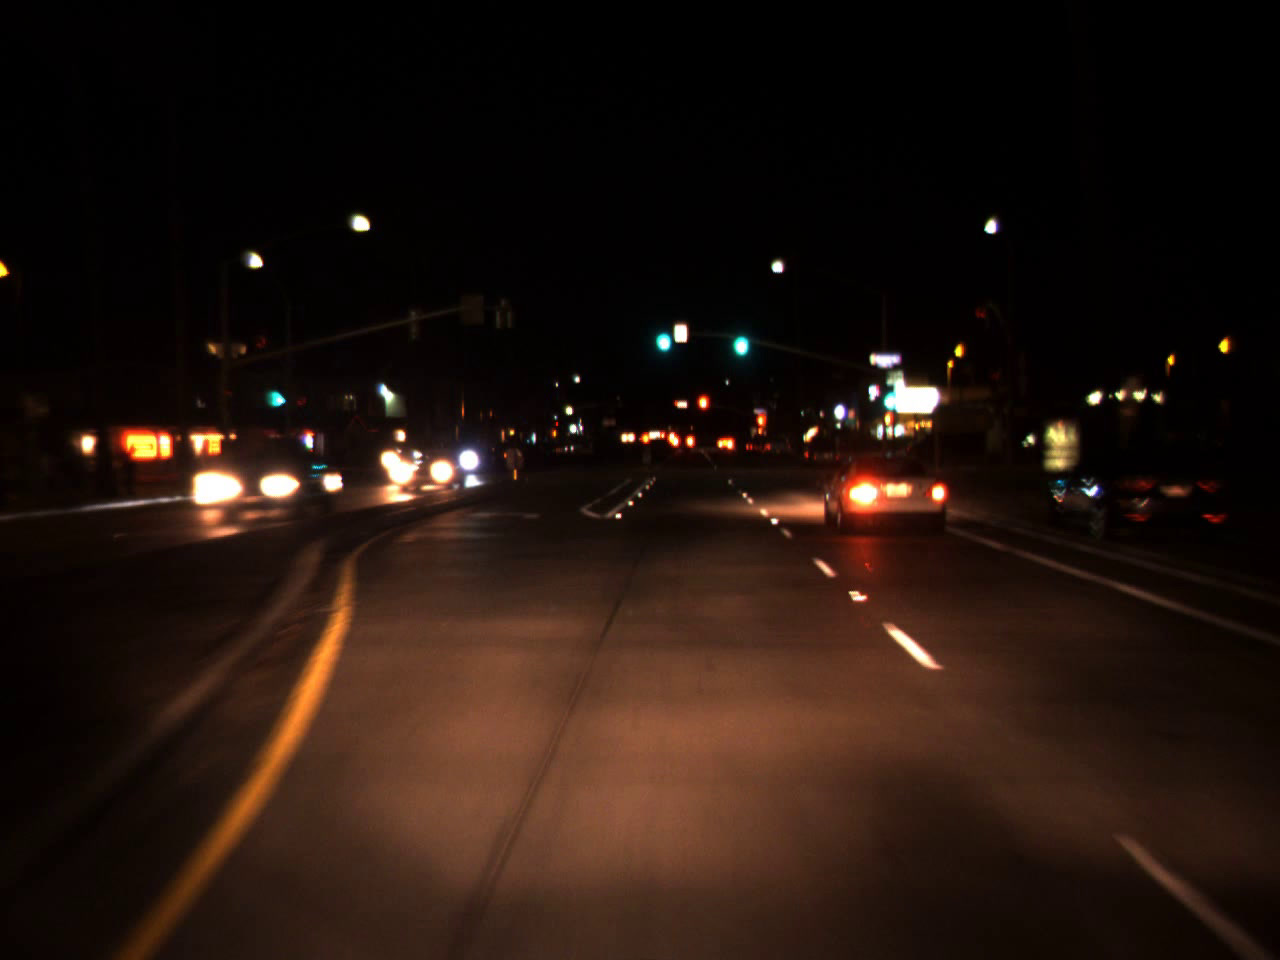go: (727, 314, 752, 362), (650, 310, 673, 358), (878, 374, 897, 413), (268, 373, 282, 412)
stop: (696, 393, 709, 425), (756, 411, 768, 443)
